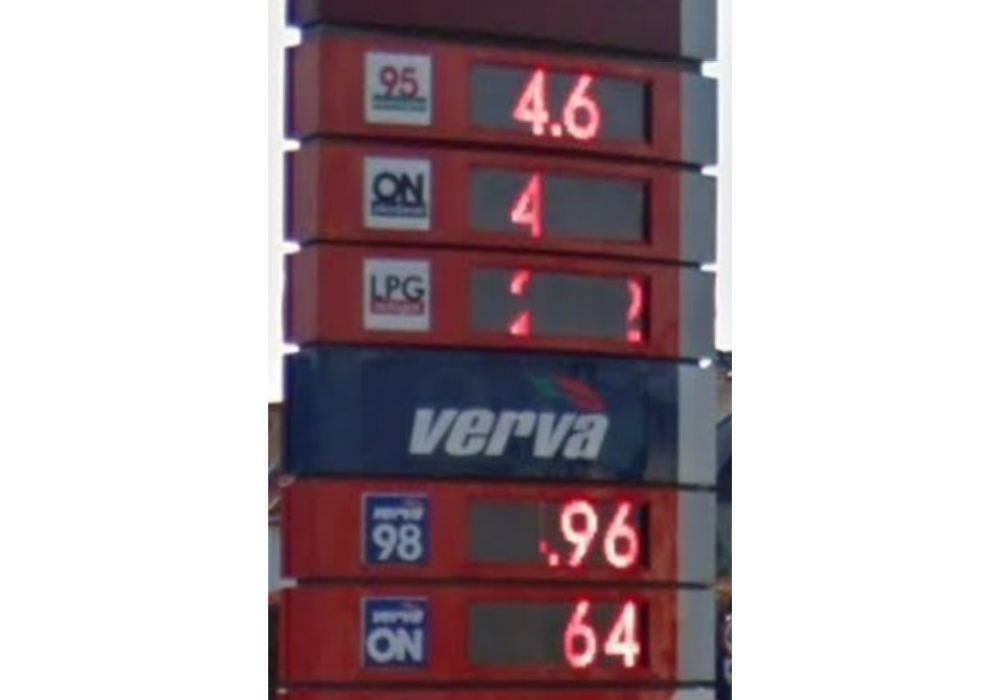LPG: (362, 256, 429, 332)
ON: (362, 156, 432, 233), (361, 593, 430, 669)
PB95: (361, 50, 431, 125)
PB98: (362, 492, 431, 569)
